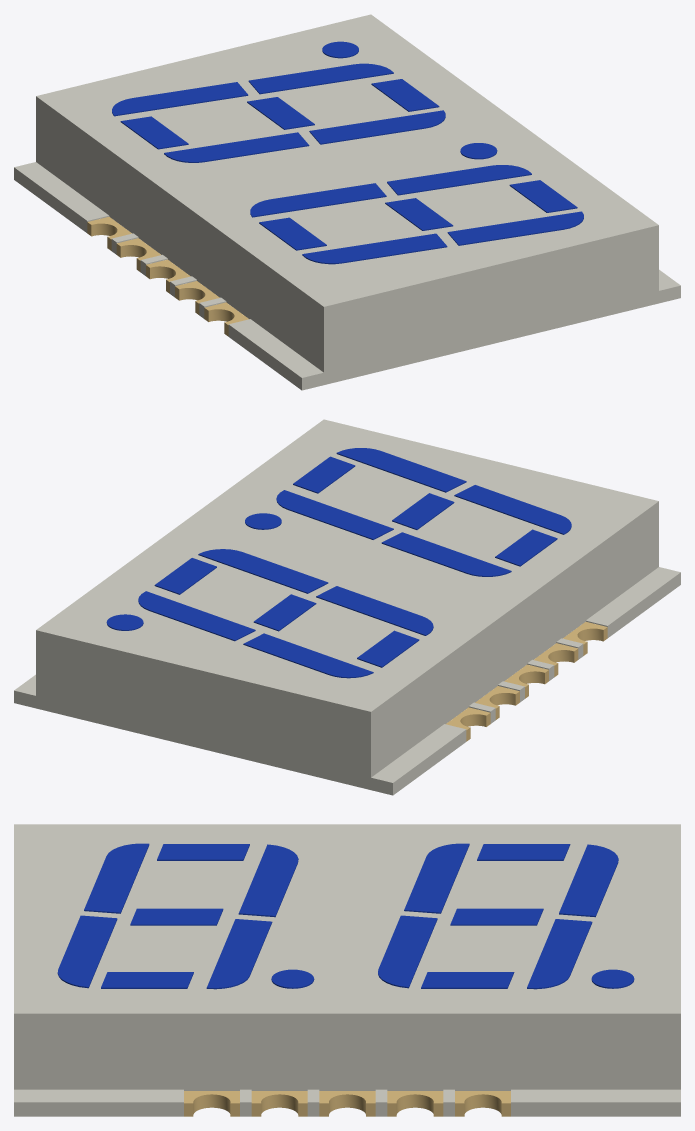
The model's file is kc-hdsm-541b_hdsm-543b.glb.
3 renders of one model, top to bottom at view 1: azimuth 30°, elevation 25°; view 2: azimuth 150°, elevation 25°; view 3: azimuth 270°, elevation 25°, orthographic. The views are drawn at different scales.
Visible parts, largest first — view 1: 0.6666666666666666_0.6666666666666666_0.5833333333333334_0.8, 0_0.08333333333333333_0.4166666666666667_0, 0.75_0.5_0.25_0.9; view 2: 0.6666666666666666_0.6666666666666666_0.5833333333333334_0.8, 0_0.08333333333333333_0.4166666666666667_0, 0.75_0.5_0.25_0.9; view 3: 0.6666666666666666_0.6666666666666666_0.5833333333333334_0.8, 0_0.08333333333333333_0.4166666666666667_0, 0.75_0.5_0.25_0.9.
Boxes of the visible parts, x1=… form: 0.6666666666666666_0.6666666666666666_0.5833333333333334_0.8: x1=14, y1=14, x2=680, y2=390; 0_0.08333333333333333_0.4166666666666667_0: x1=112, y1=41, x2=583, y2=264; 0.75_0.5_0.25_0.9: x1=87, y1=217, x2=248, y2=336; 0.6666666666666666_0.6666666666666666_0.5833333333333334_0.8: x1=14, y1=419, x2=680, y2=795; 0_0.08333333333333333_0.4166666666666667_0: x1=106, y1=448, x2=571, y2=678; 0.75_0.5_0.25_0.9: x1=446, y1=622, x2=607, y2=741; 0.6666666666666666_0.6666666666666666_0.5833333333333334_0.8: x1=14, y1=824, x2=680, y2=1116; 0_0.08333333333333333_0.4166666666666667_0: x1=57, y1=843, x2=634, y2=989; 0.75_0.5_0.25_0.9: x1=184, y1=1091, x2=510, y2=1116.
Size of the model in its own units: 1.9 by 0.38 by 2.5.
